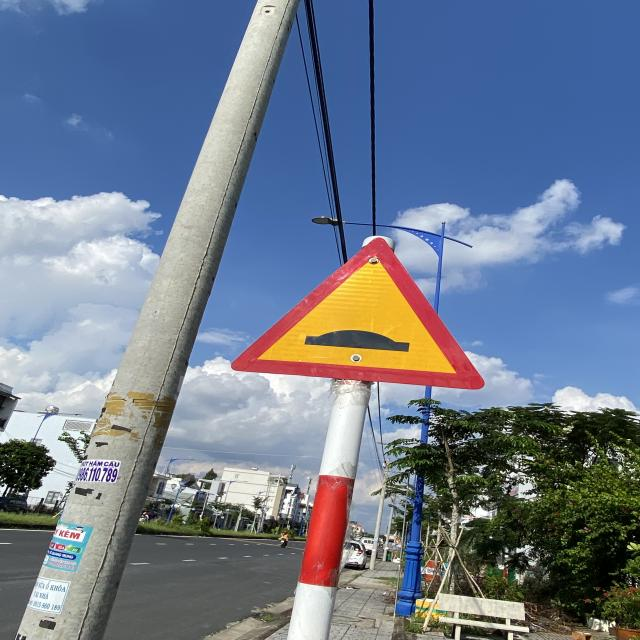Duong_Cong_Ben_Phai: (230, 235, 486, 388)
